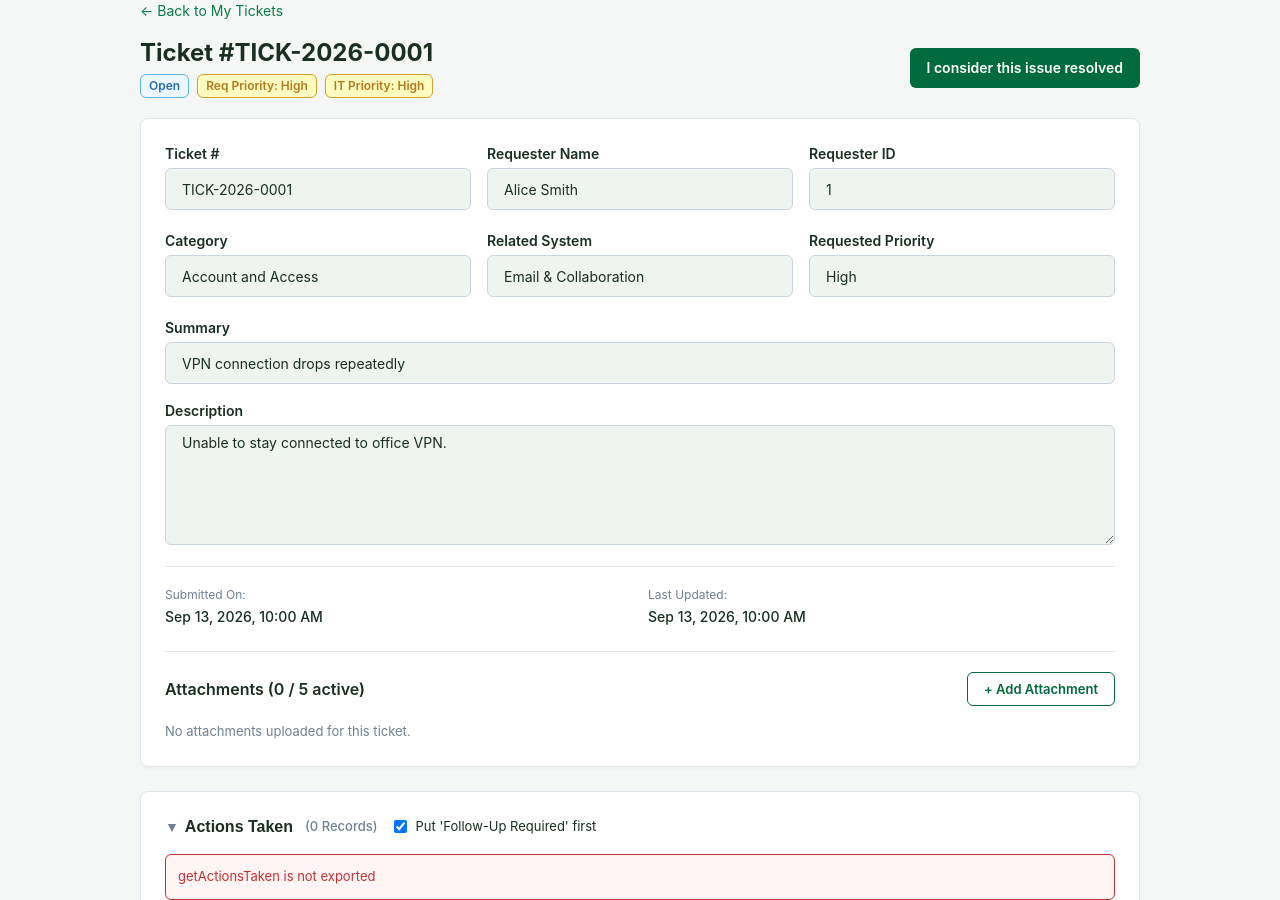
Lab 03 Client — Staff Ticket Detail Component (StaffTicketDetail.test.tsx) › displays confirmation modal when Requester clicks Mark as Resolved
This screenshot has width=1280, height=900.
Click the button with test id "request-resolution-button". click: (1025, 68)
box: [910,48,1140,88]
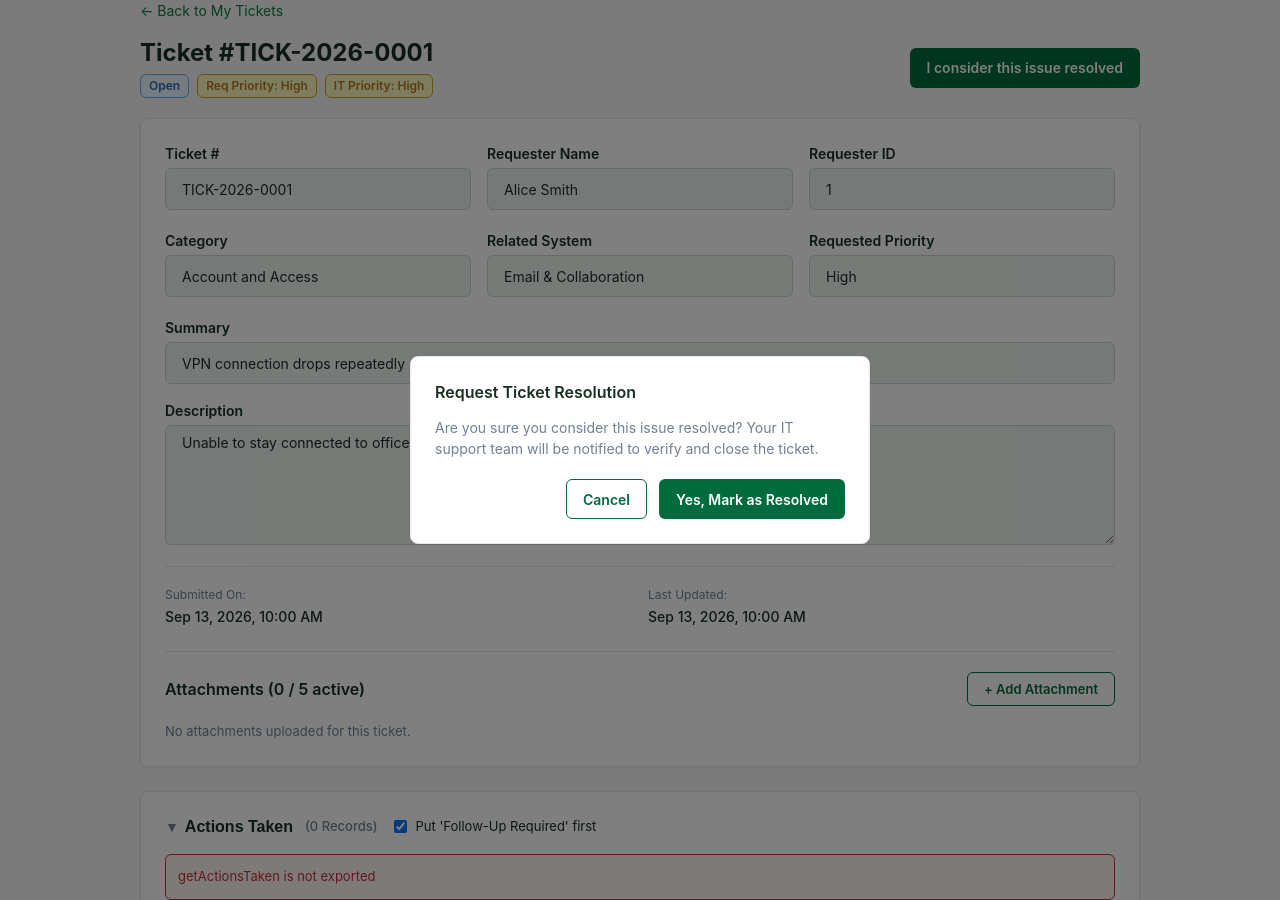
Expected: the element with test id "resolution-confirmation-modal" is shown
Expected: the button with test id "confirm-resolution-button" is shown, [659,479,845,519]
